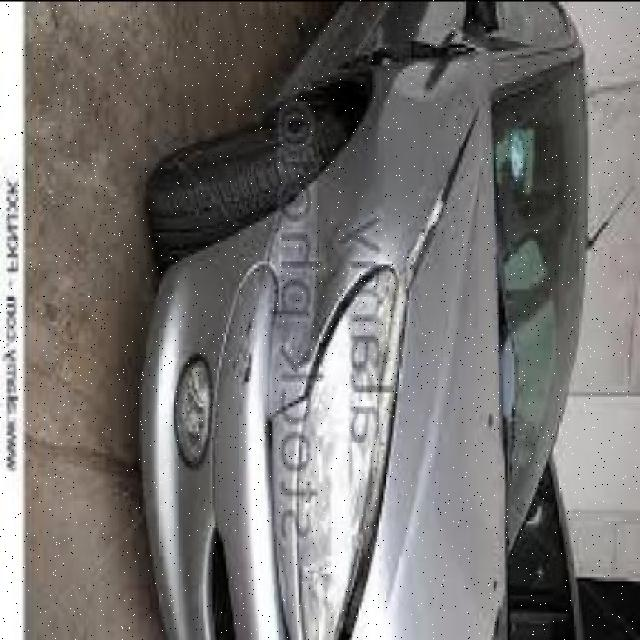damage: (326, 102, 483, 633), (219, 173, 355, 408), (334, 21, 481, 92)
